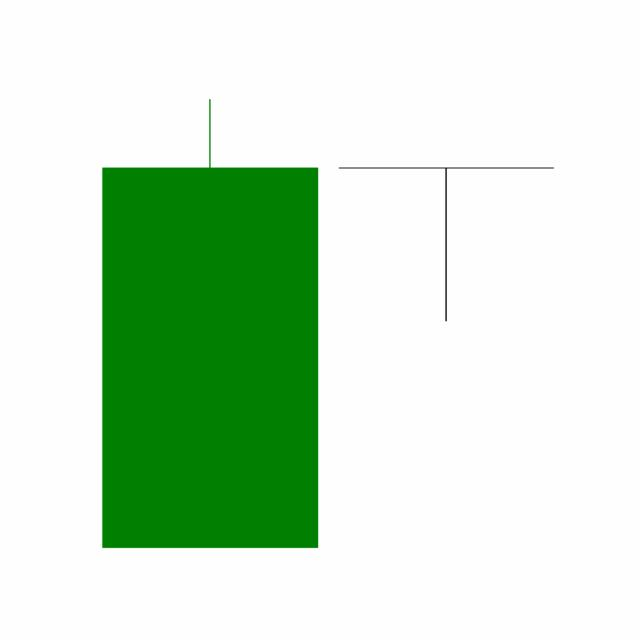Hanging Man: (327, 166, 565, 323)
